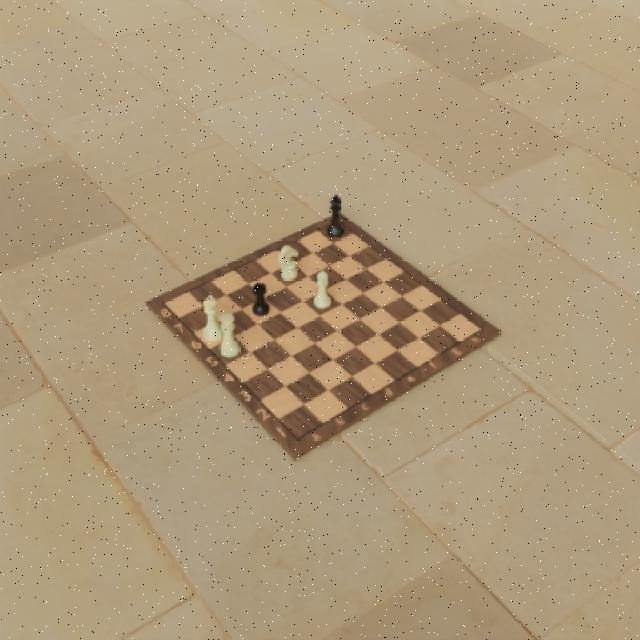black-king: (327, 195, 343, 242)
black-rook: (251, 282, 271, 316)
white-bishop: (313, 268, 330, 311)
white-king: (202, 293, 222, 343)
white-knight: (277, 244, 299, 282)
white-queen: (218, 311, 242, 360)
